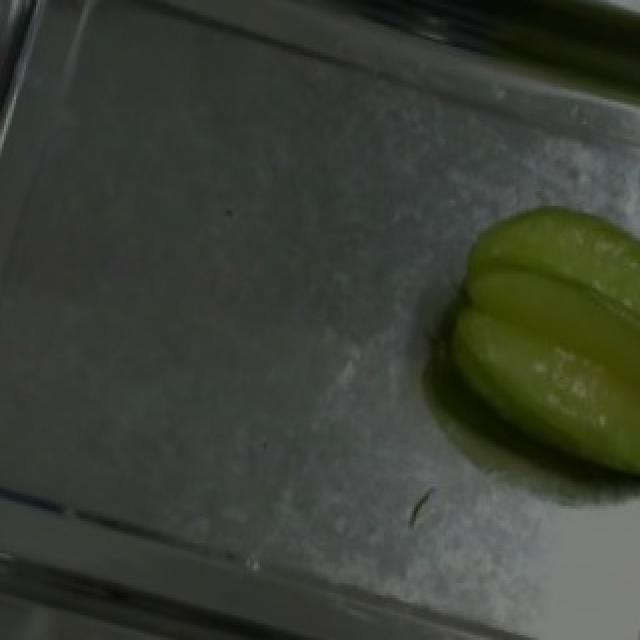fruit: (416, 169, 640, 511)
